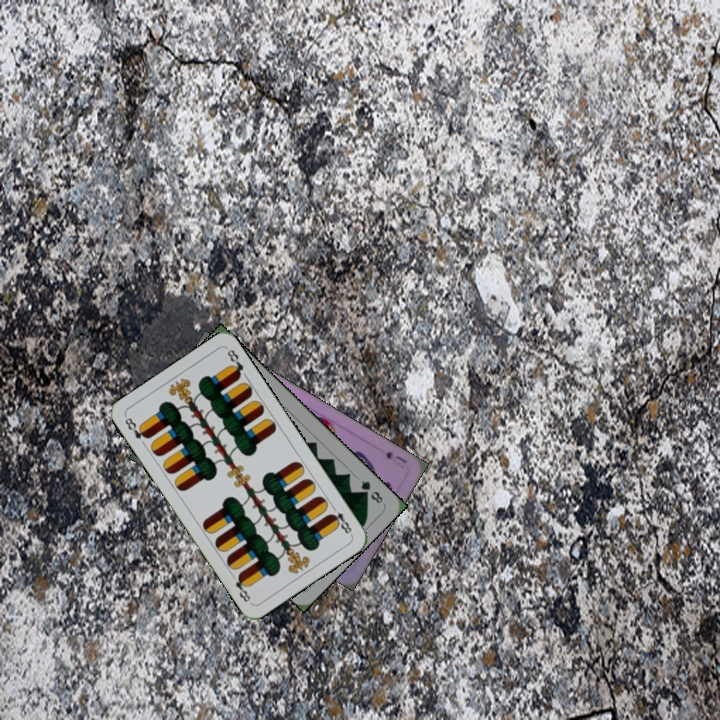E8: (326, 501, 355, 538), (121, 413, 152, 442)
G8: (356, 476, 386, 506)
SU: (381, 447, 409, 466)
